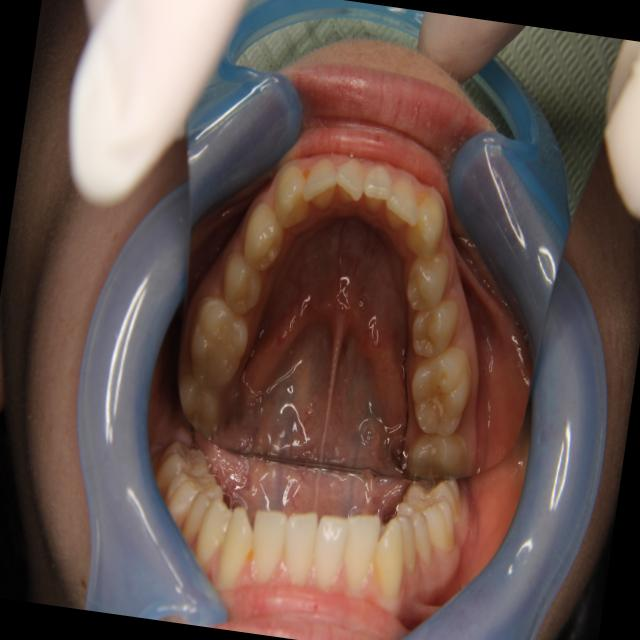tooth: (399, 334, 480, 445), (179, 290, 256, 403), (398, 420, 477, 489), (167, 371, 237, 447), (396, 180, 454, 264), (211, 242, 270, 322), (405, 292, 464, 368), (236, 198, 291, 279), (400, 247, 455, 320), (378, 171, 427, 245), (267, 161, 314, 233), (296, 149, 342, 221), (327, 145, 370, 211), (357, 161, 395, 218)
